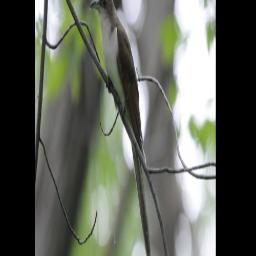Cuckoo: (89, 0, 154, 256)
